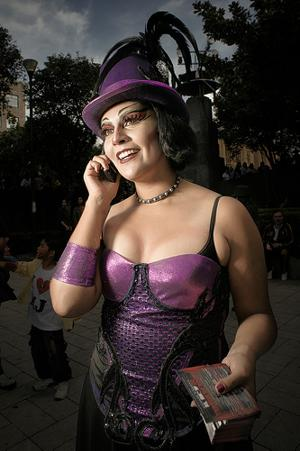person: (50, 54, 280, 451)
